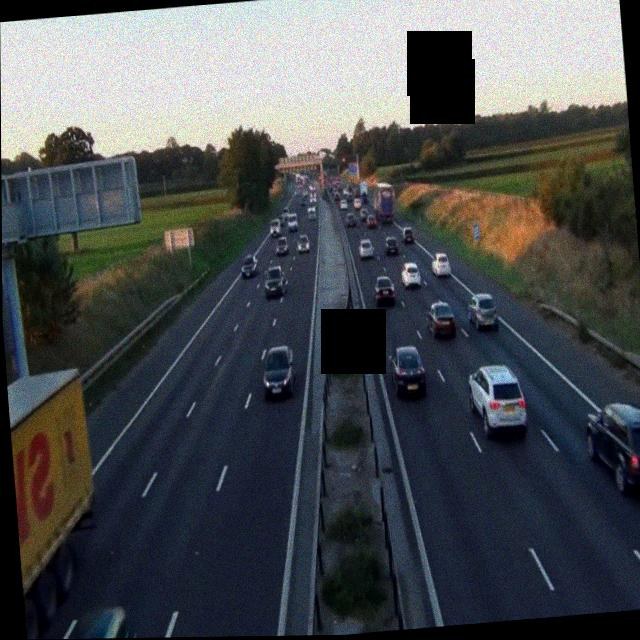bus: (372, 182, 396, 223)
car: (584, 401, 640, 497), (466, 362, 528, 437), (49, 602, 133, 639), (260, 344, 296, 400), (389, 344, 426, 396), (425, 299, 458, 337), (466, 292, 498, 331), (372, 272, 396, 306), (262, 267, 286, 299), (401, 259, 422, 288), (431, 251, 452, 277), (358, 236, 375, 260), (241, 255, 258, 278), (273, 233, 288, 254), (285, 211, 298, 232), (296, 232, 309, 251), (269, 217, 282, 236), (402, 224, 415, 242), (365, 212, 377, 230), (346, 212, 357, 225), (307, 203, 316, 218), (339, 197, 348, 210)
truck: (6, 366, 109, 640)
